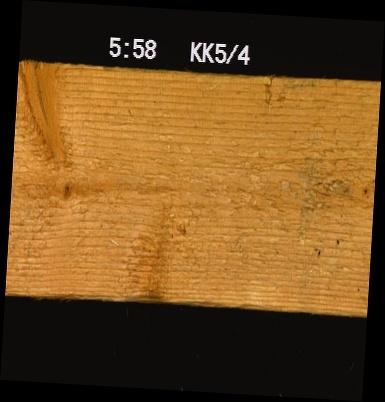small_knot: (59, 174, 73, 203), (358, 182, 371, 197)
wave: (49, 285, 291, 304)
